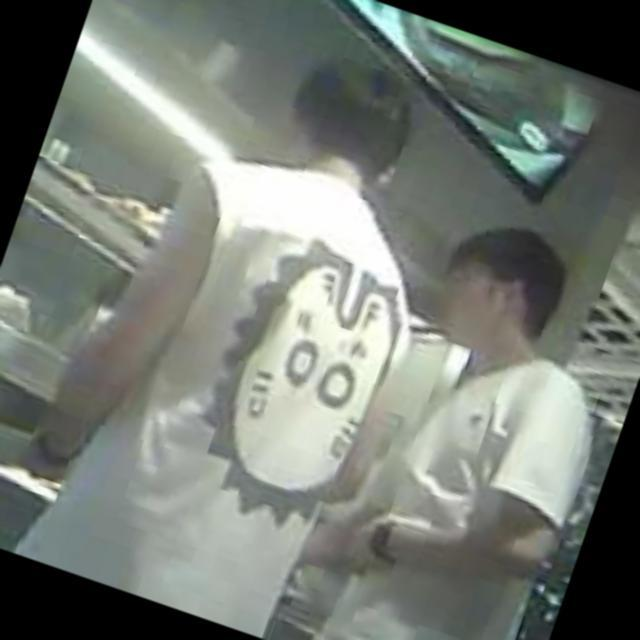person: (0, 2, 492, 640), (279, 195, 640, 640)
